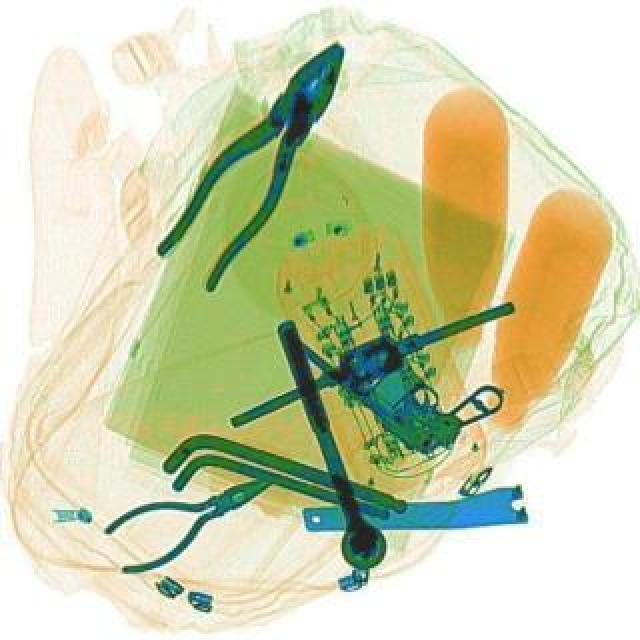gun: (290, 272, 510, 468)
wrench: (142, 20, 380, 294), (96, 450, 288, 578)
